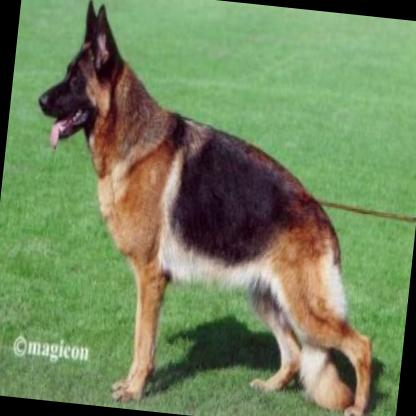German_shepherd: (4, 0, 406, 416)
